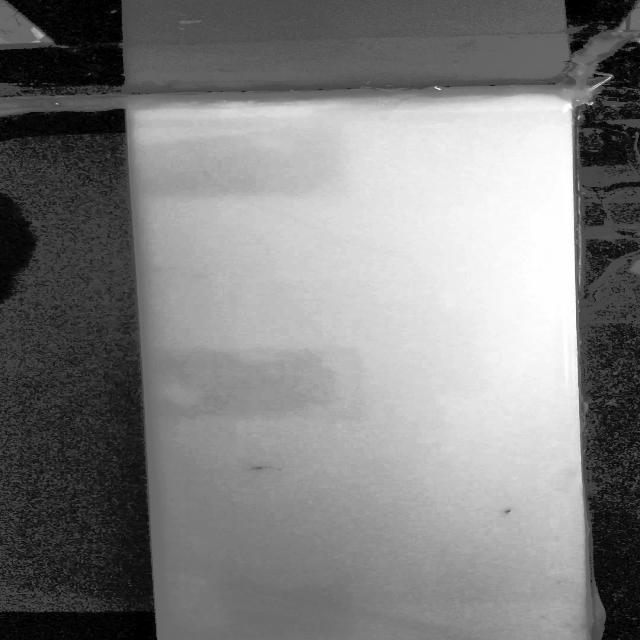shrimp: (488, 497, 526, 524), (238, 458, 281, 476)
